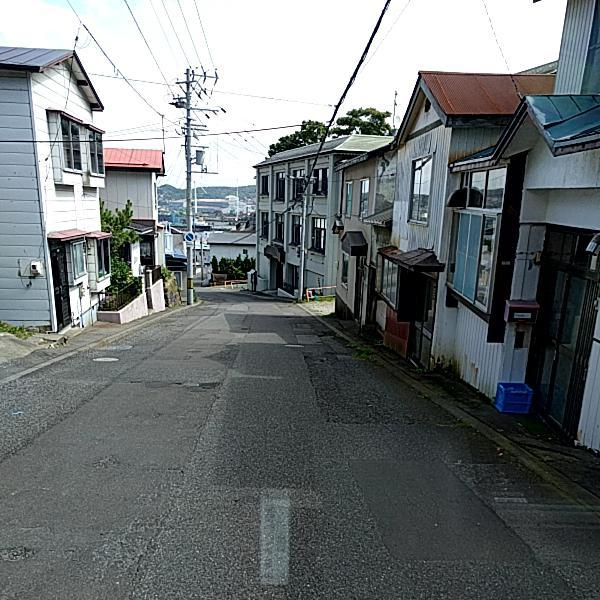D20: (89, 493, 178, 585)
D40: (2, 541, 39, 564)
D50: (85, 355, 122, 365), (277, 342, 306, 349)
